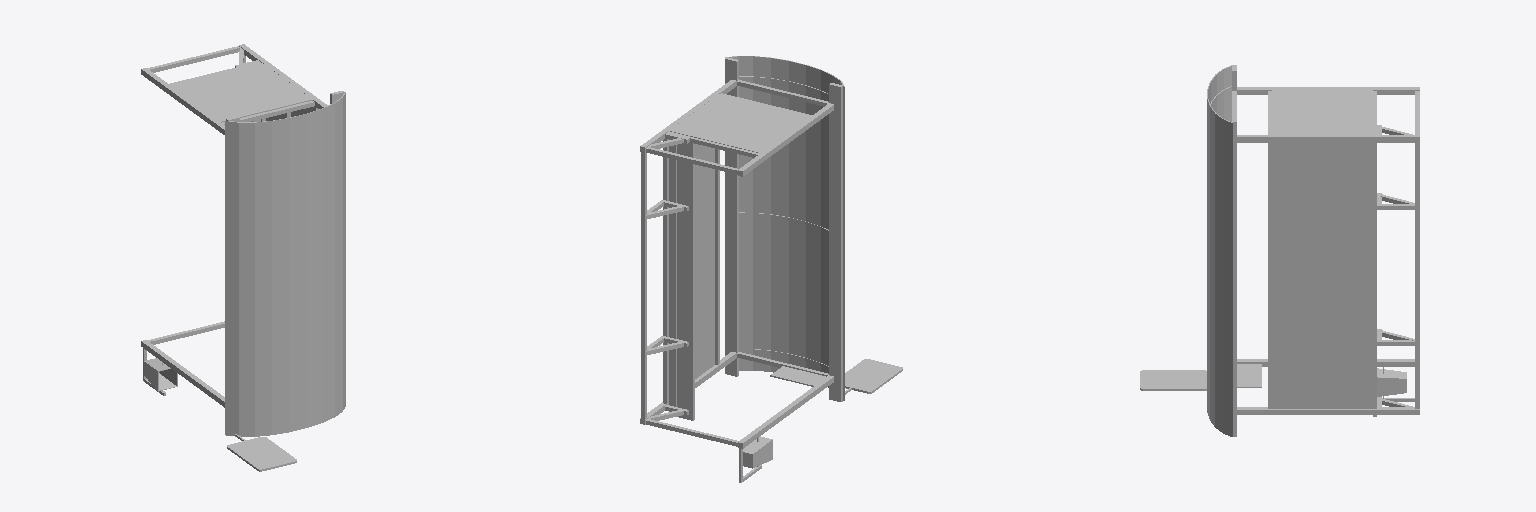
Rendered from bust stop 1.obj.
The picture shows the model from 3 angles: view 1: azimuth 30°, elevation 25°; view 2: azimuth 150°, elevation 25°; view 3: azimuth 270°, elevation 25°; orthographic projection.
Parts seen in each view (by area): view 1: Object.1; view 2: Object.1; view 3: Object.1.
Part boxes in pixels (bbox=[...]): Object.1: bbox=[141, 44, 345, 471]; Object.1: bbox=[640, 56, 902, 482]; Object.1: bbox=[1140, 65, 1419, 436].
Size of the model in its own units: 2048 by 4870 by 3730.